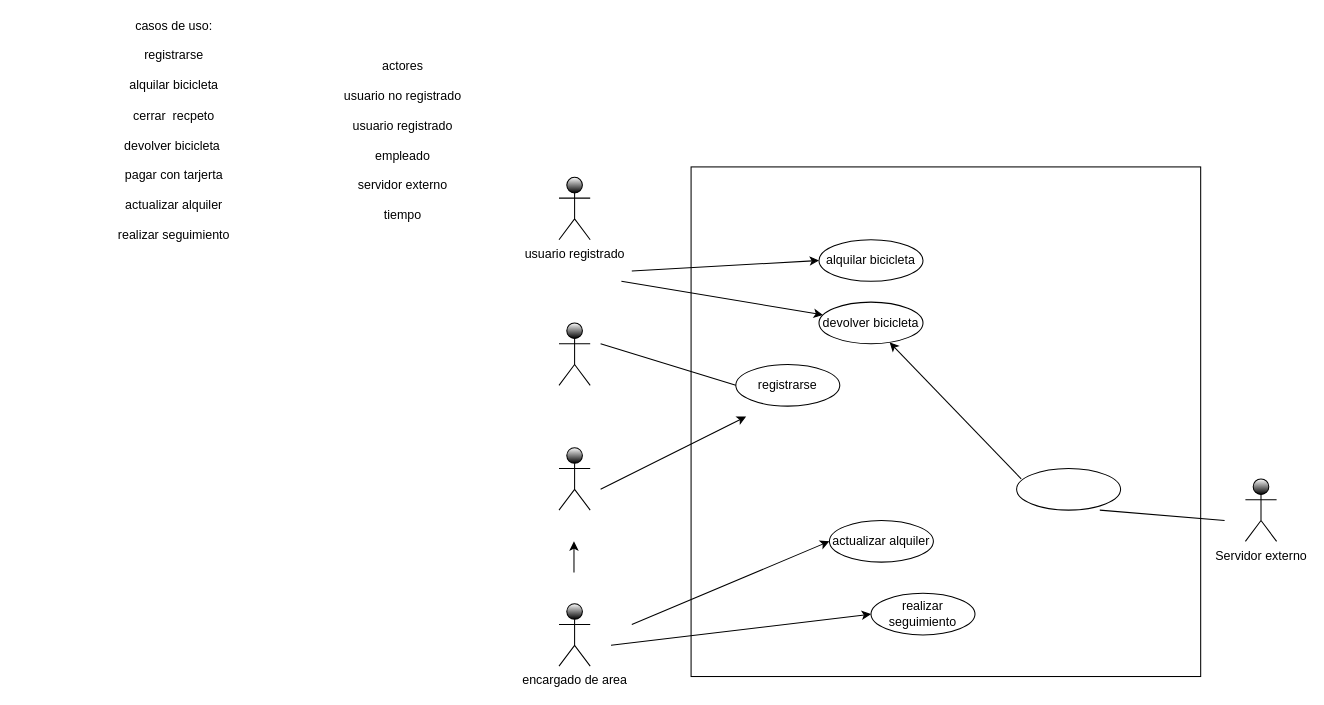
Image size: 1324x705. Some labels were removed from this diagram. The centre of each missing label's shape, as x and y in pixels:
"empelado" goes at point 574,478.
"pagar con tarjeta" goes at point 1068,488.
"usuario no registrado" goes at point 574,353.
